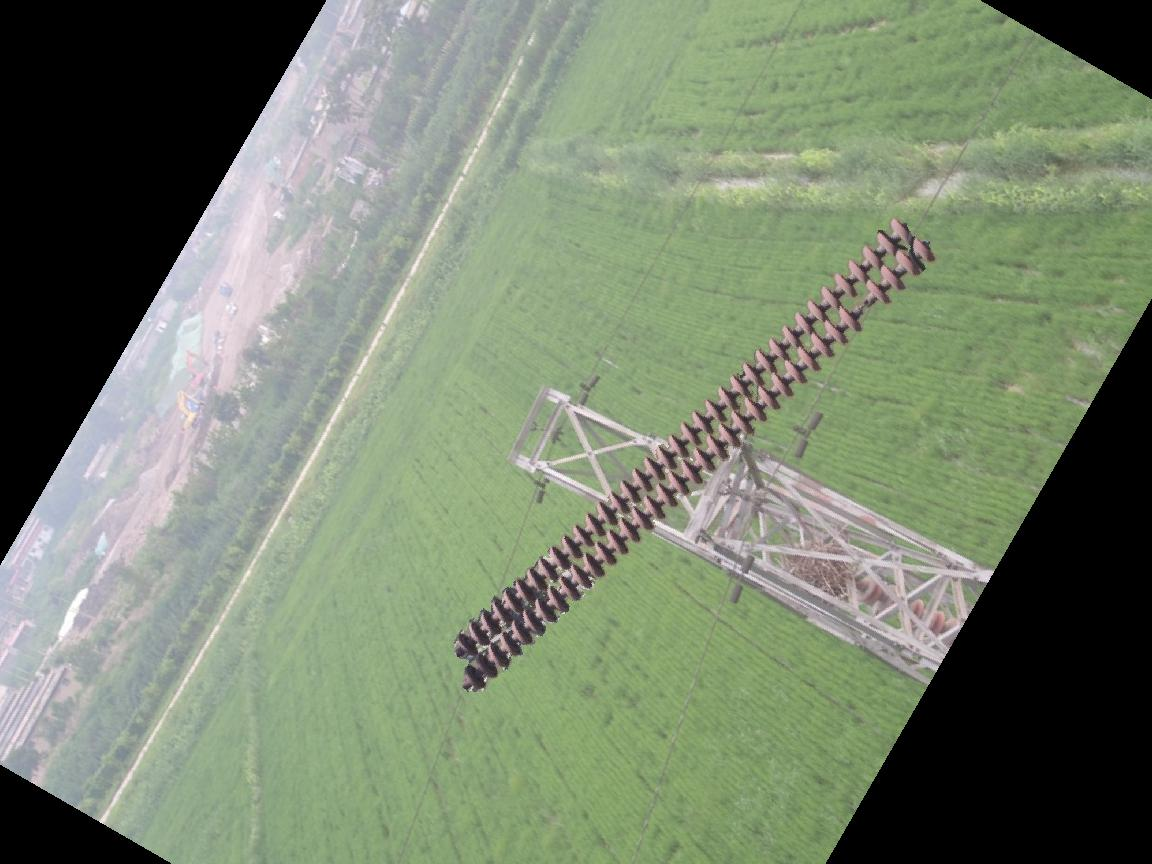insulator: (447, 209, 944, 694), (856, 575, 956, 641)
insulator_stringdrop: (835, 280, 890, 335)
